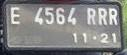clone-license-plate: (4, 1, 122, 51)
